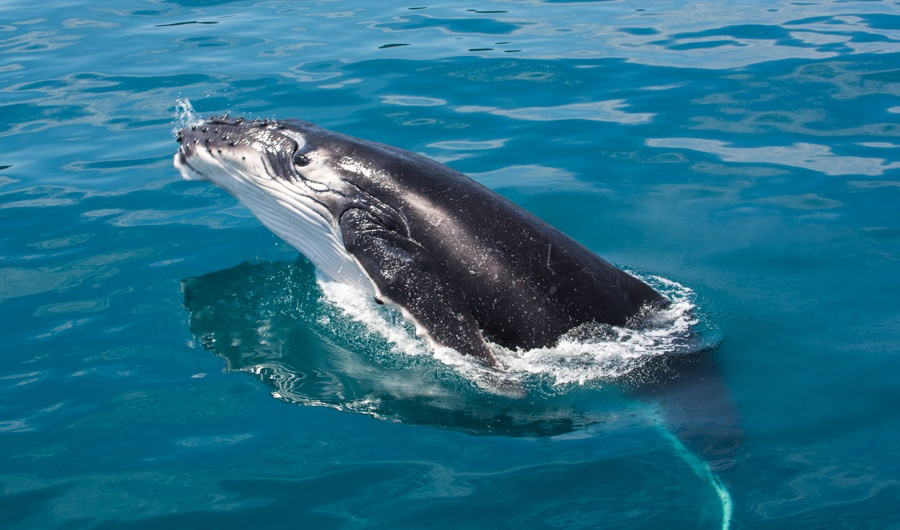humpback: (175, 117, 669, 354)
